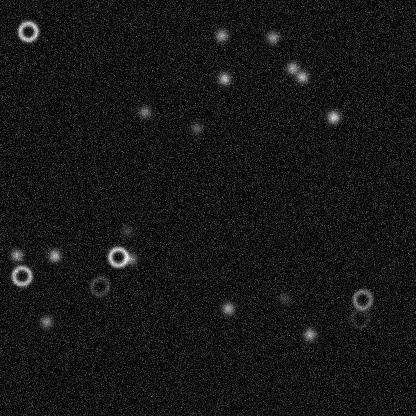Ring: (106, 244, 130, 268), (9, 263, 33, 287), (350, 287, 374, 311), (347, 306, 371, 330), (15, 19, 39, 43), (87, 274, 111, 298)
Spot: (276, 290, 292, 306), (301, 326, 317, 342), (220, 300, 236, 316), (294, 68, 310, 84), (118, 223, 134, 239), (46, 247, 62, 263), (122, 250, 138, 266), (213, 27, 229, 43), (136, 103, 152, 119), (188, 120, 204, 136), (284, 59, 300, 75), (8, 247, 24, 263), (38, 313, 54, 329), (264, 29, 280, 45), (216, 70, 232, 86), (325, 108, 341, 124)
